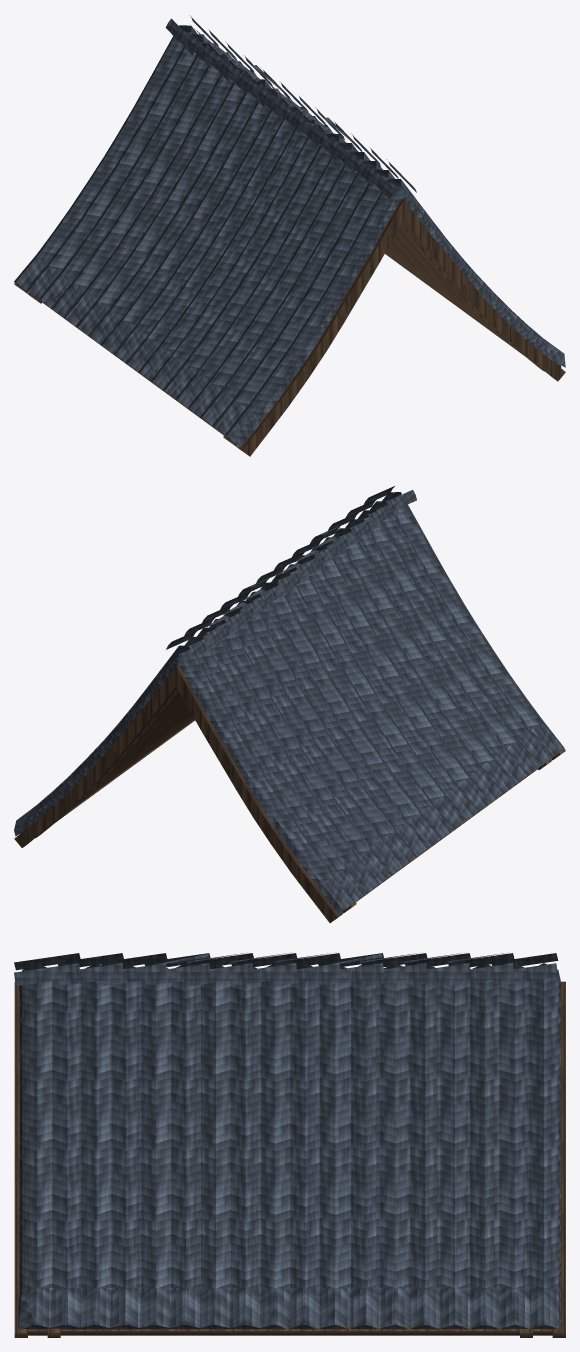
File: Roof_Slate_6x8.gltf
3 views of the same model, one above another, from view 1: azimuth 30°, elevation 25°; view 2: azimuth 150°, elevation 25°; view 3: azimuth 270°, elevation 25° (orthographic). The views are drawn at different scales.
Visible parts, largest first — view 1: Roof_Slate_6x8; view 2: Roof_Slate_6x8; view 3: Roof_Slate_6x8.
Part boxes in pixels (<box>): Roof_Slate_6x8: <box>14,15,565,456</box>; Roof_Slate_6x8: <box>14,486,565,922</box>; Roof_Slate_6x8: <box>14,952,565,1337</box>.
Size of the model in its own units: 8.25 by 5.67 by 9.67.
Materials: 2 (2 with a texture image).
